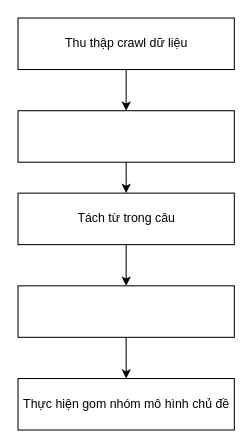
Some shapes in this 252 by 448 pixel diagram are drawn without their labels. The box of each missing label's shape, as (x1, y1, x2, y2) in pixels:
Tiền xử lý dữ liệu: (17, 110, 234, 162)
Đánh giá mức độ quan trọng của từ: (17, 285, 234, 337)
